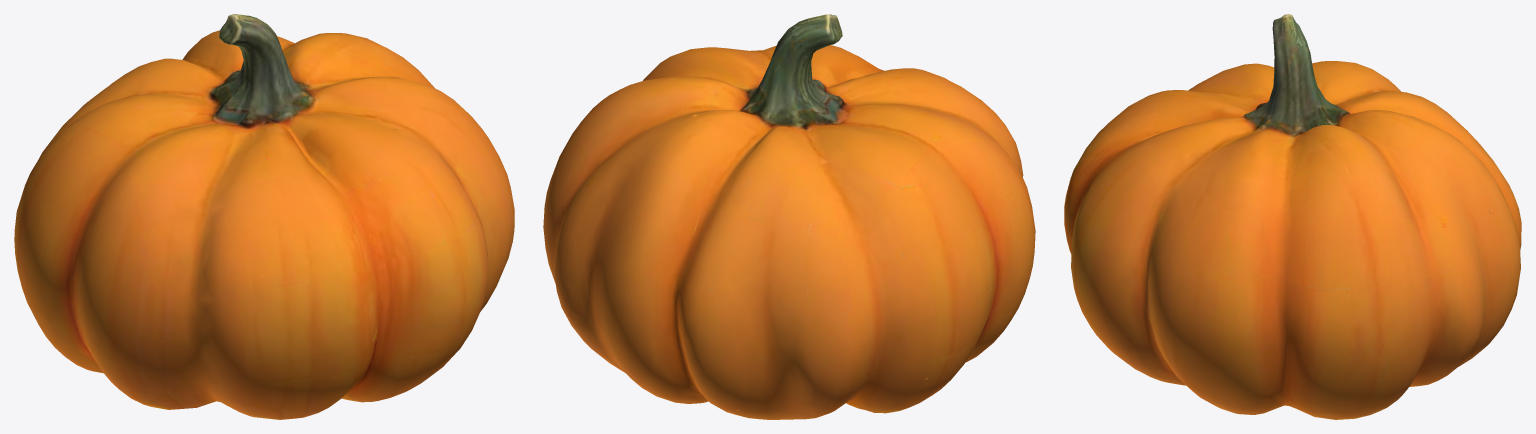
File: pumpkin.glb
The picture shows the model from 3 angles, left to right: view 1: azimuth 30°, elevation 25°; view 2: azimuth 150°, elevation 25°; view 3: azimuth 270°, elevation 25°; orthographic projection. The views are drawn at different scales.
Bounding box in the file's own units: 1.98 × 1.62 × 2.
Materials: 1 (1 with a texture image).
